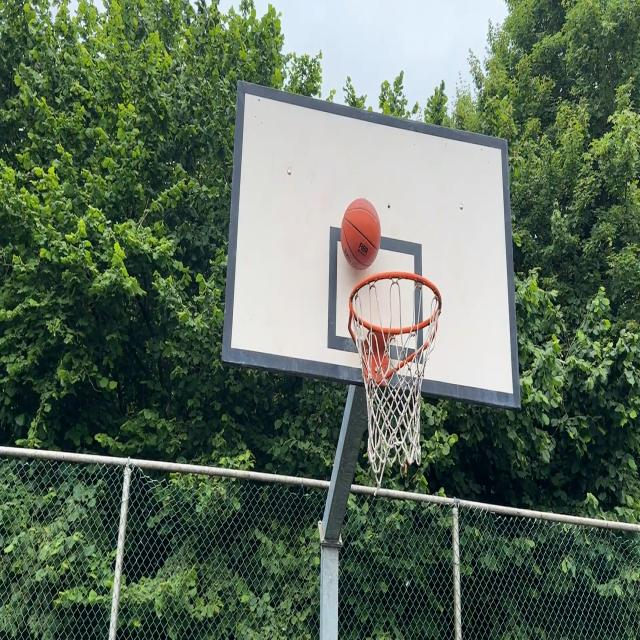rebound_hit: (341, 196, 382, 277)
